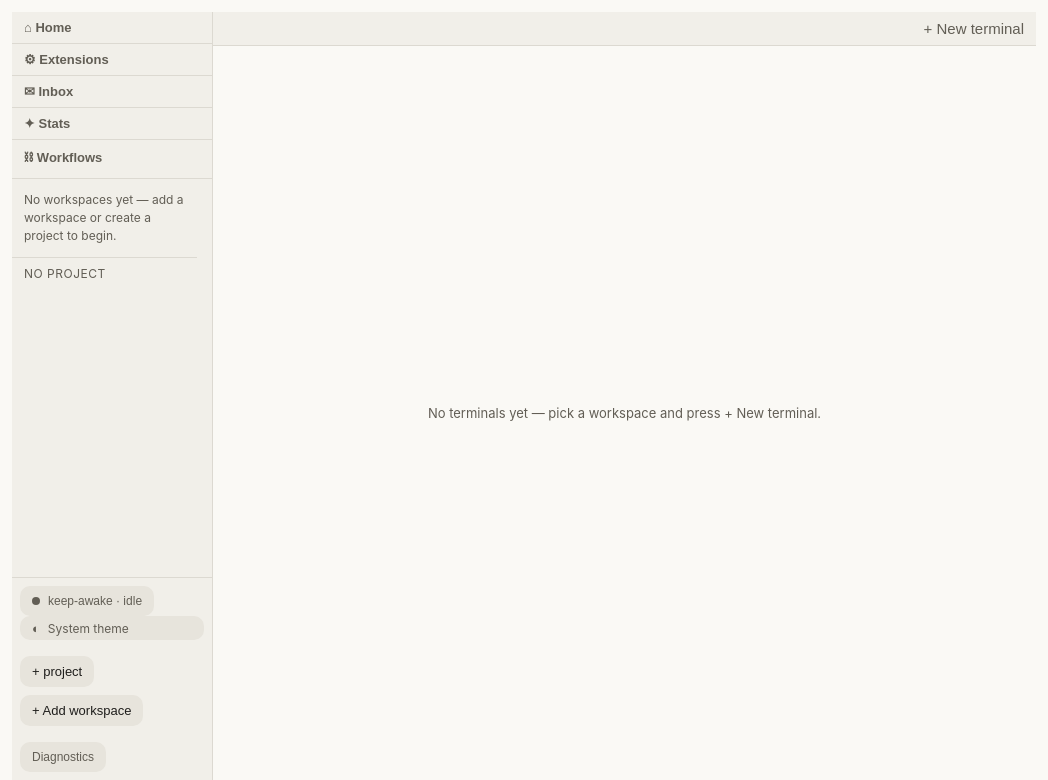
Scenario: T11: attention-first Home, view switch, watch + fs/workspace event wiring › clicking ⌂ Home in the sidebar switches away from the terminal layout to HomeView
Click the button "⌂ Home".
click(112, 28)  # box [12,12,212,44]
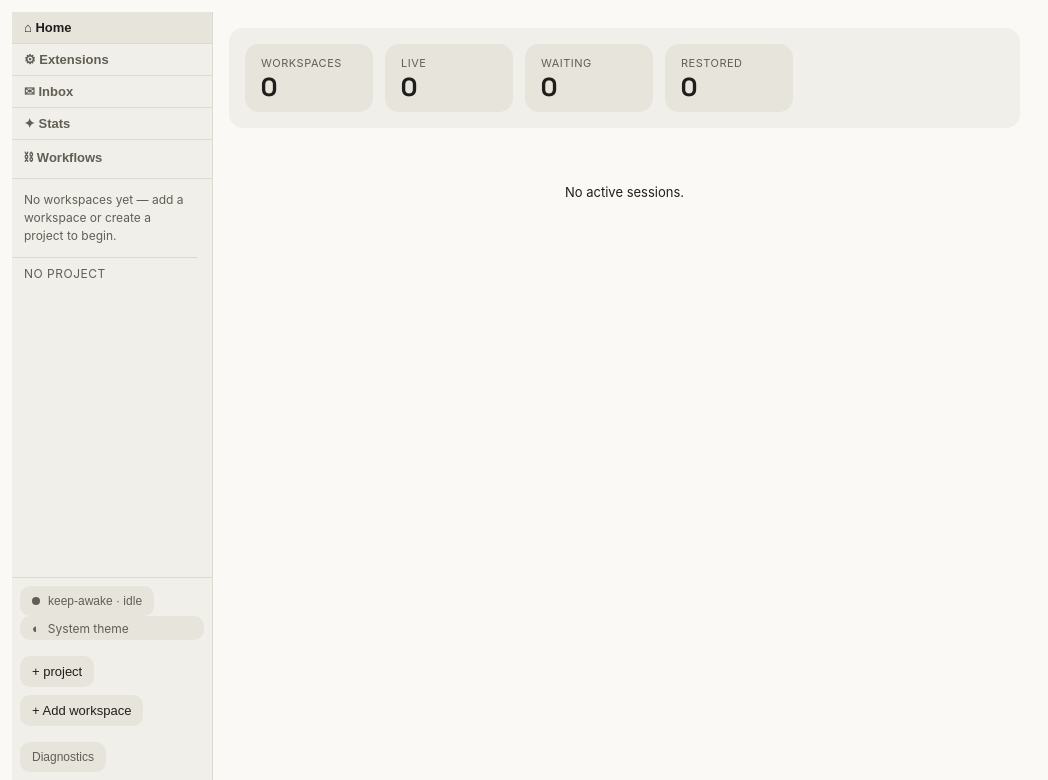
Expected: the element with test id "home-stats" is shown, [229,28,1020,128]
